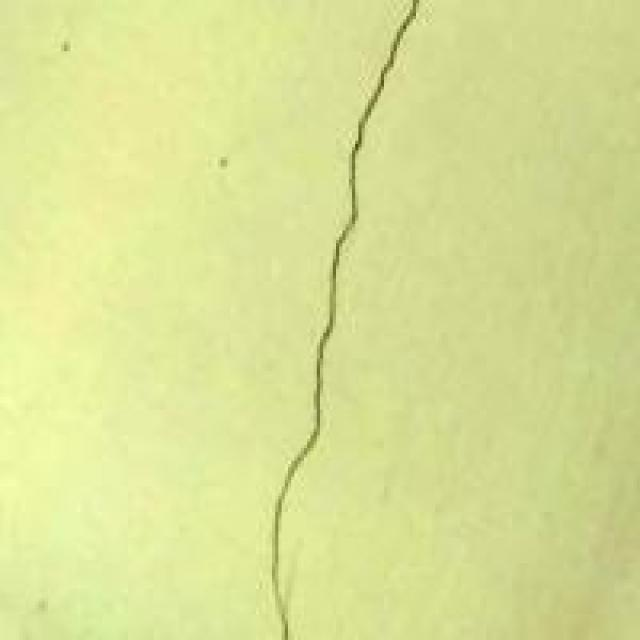Crack: (253, 0, 487, 637)
